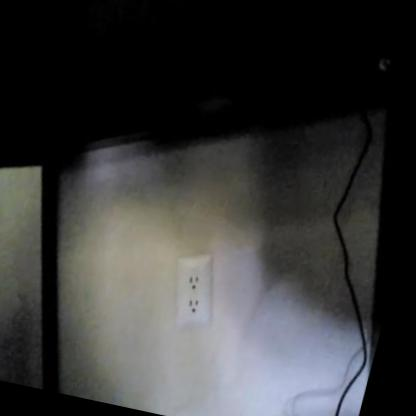OUTLET: (168, 249, 224, 328)
